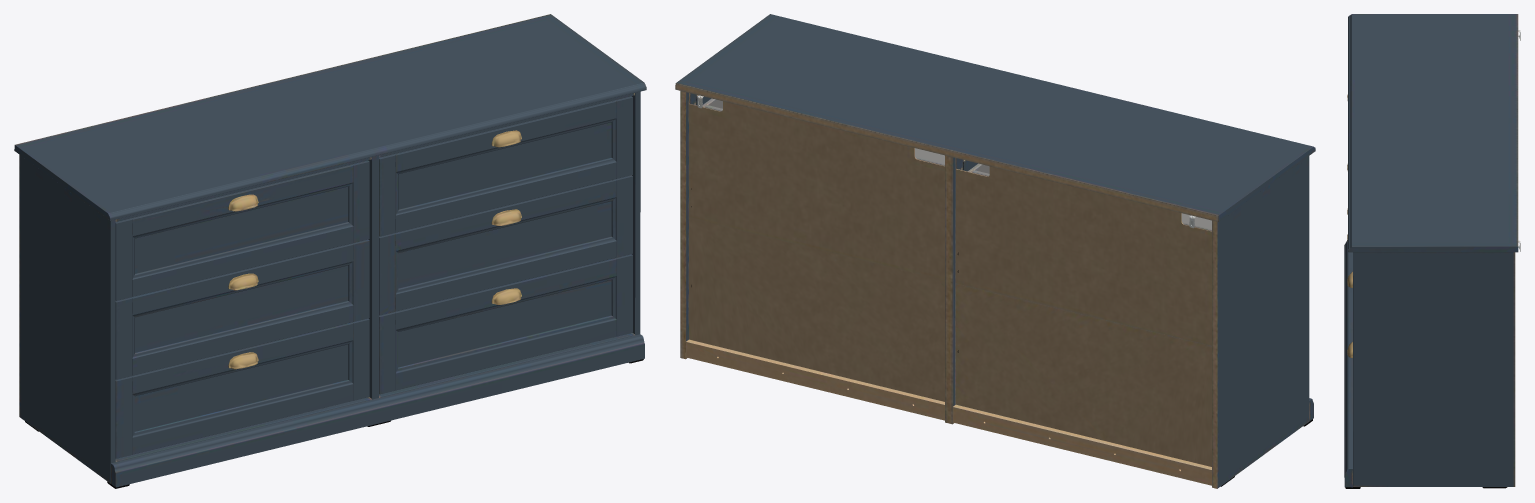
Rendered from fagelfjallet_komoda_6_szuflad_10611646.glb.
The picture shows the model from 3 angles, left to right: view 1: azimuth 30°, elevation 25°; view 2: azimuth 150°, elevation 25°; view 3: azimuth 270°, elevation 25°; orthographic projection. The views are drawn at different scales.
Visible parts, largest first — view 1: fagelfjallet_komoda_6_szuflad_10611646; view 2: fagelfjallet_komoda_6_szuflad_10611646; view 3: fagelfjallet_komoda_6_szuflad_10611646.
Boxes of the visible parts, x1=… form: fagelfjallet_komoda_6_szuflad_10611646: x1=14, y1=14, x2=646, y2=488; fagelfjallet_komoda_6_szuflad_10611646: x1=675, y1=14, x2=1315, y2=488; fagelfjallet_komoda_6_szuflad_10611646: x1=1344, y1=14, x2=1520, y2=488.
Size of the model in its own units: 1.6 by 0.7825 by 0.5116.
Materials: 1 (1 with a texture image).
